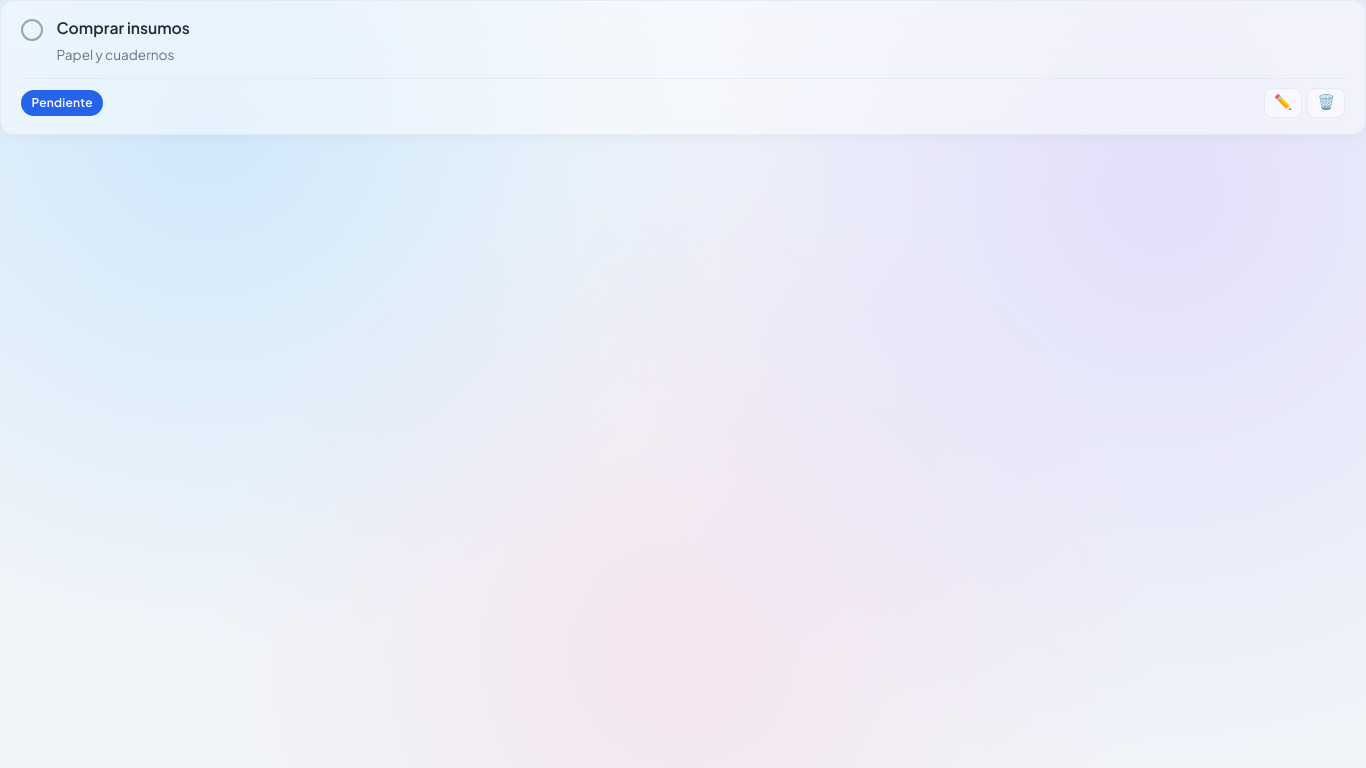
Scenario: Componente: TodoItem (Flujo de Edición e Interacción) › debe validar que el título no quede vacío antes de guardar
This screenshot has width=1366, height=768.
Click the button named "editar": (1283, 103) 1264,88 -> 1302,118
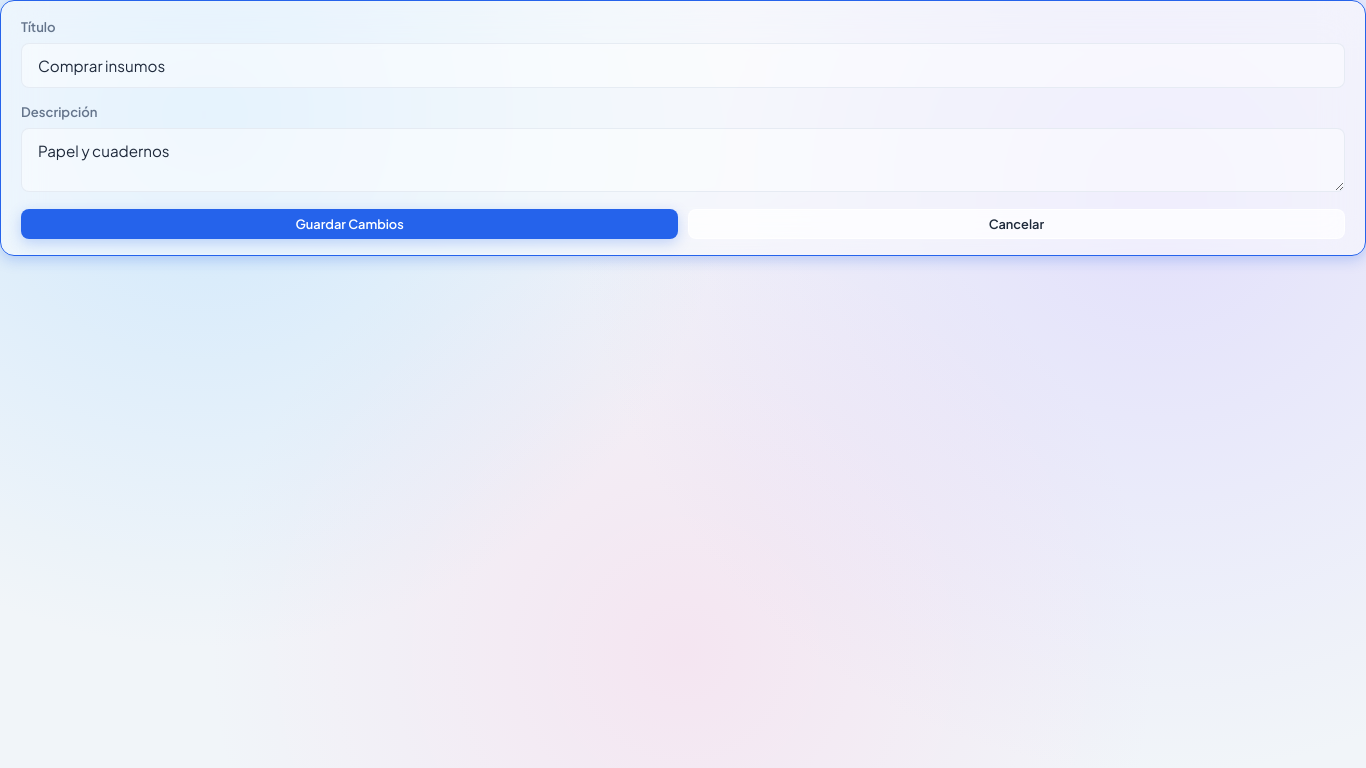
Clear the field showing "Comprar insumos": (683, 66) 21,43 -> 1345,88
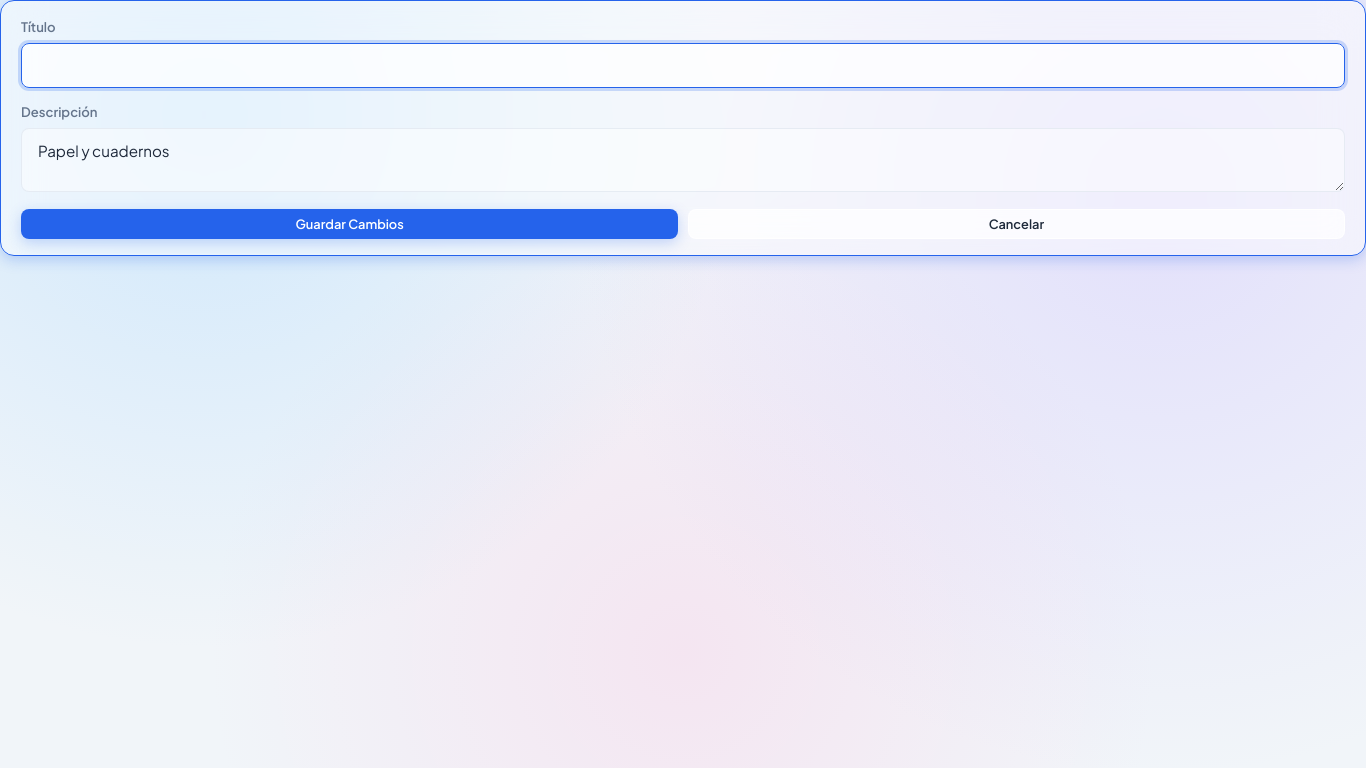
Click the button "Guardar Cambios": (350, 224) 21,209 -> 678,238
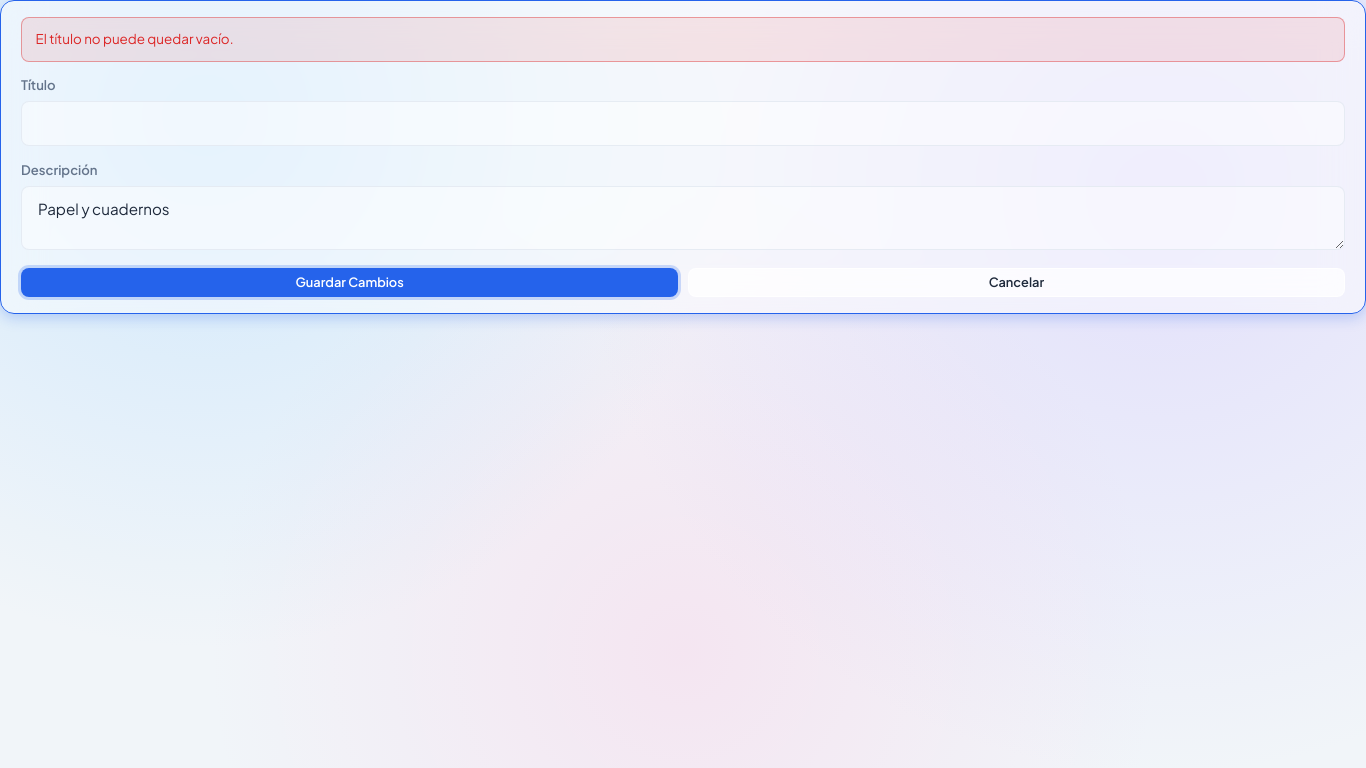
Now the text "El título no puede quedar vacío." is shown, box 36,30 -> 234,49
